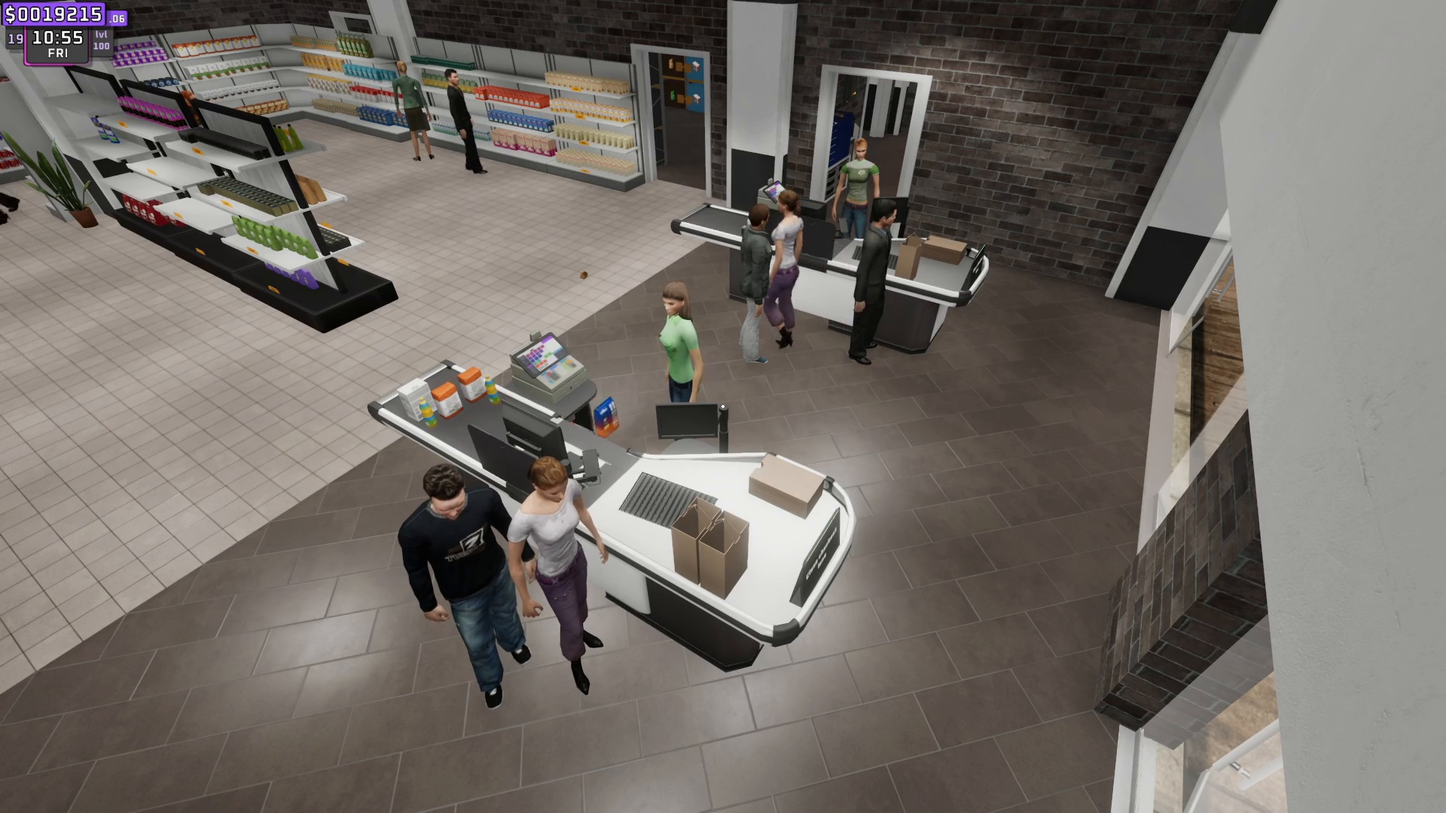Client: (409, 472, 535, 692), (526, 446, 613, 713), (851, 196, 891, 362), (741, 204, 779, 362), (770, 181, 805, 344)
Employee: (661, 284, 707, 401), (833, 141, 875, 221)
